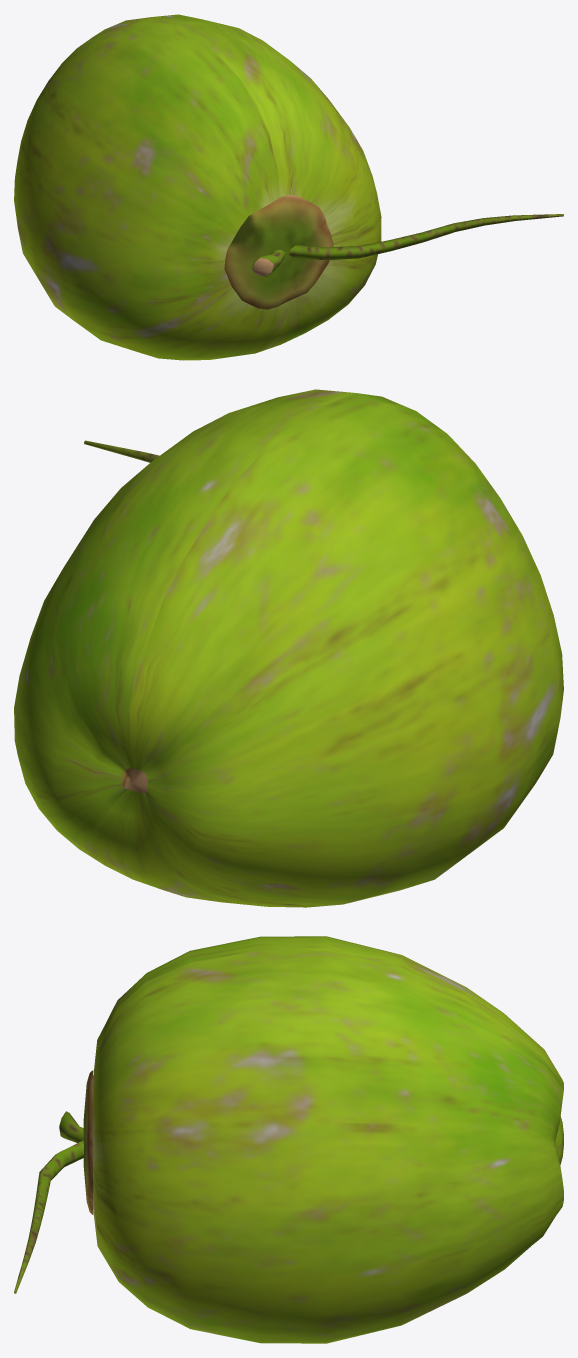
Rendered from kelapa_ijo_green_coconut.glb.
3 views of the same model, one above another, from view 1: azimuth 30°, elevation 25°; view 2: azimuth 150°, elevation 25°; view 3: azimuth 270°, elevation 25° (orthographic). The views are drawn at different scales.
Parts seen in each view (by area): view 1: Sphere_0; view 2: Sphere_0; view 3: Sphere_0.
Boxes of the visible parts, <box> form: Sphere_0: <box>14,14,563,360</box>; Sphere_0: <box>14,389,563,907</box>; Sphere_0: <box>14,936,563,1343</box>.
Bounding box in the file's own units: 2.56 × 1.83 × 2.5.
Materials: 1 (1 with a texture image).
